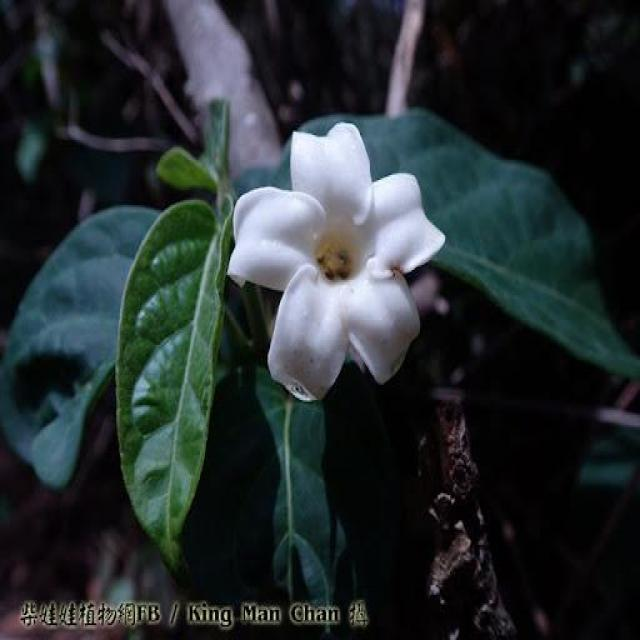organic waste: (230, 126, 449, 402)
